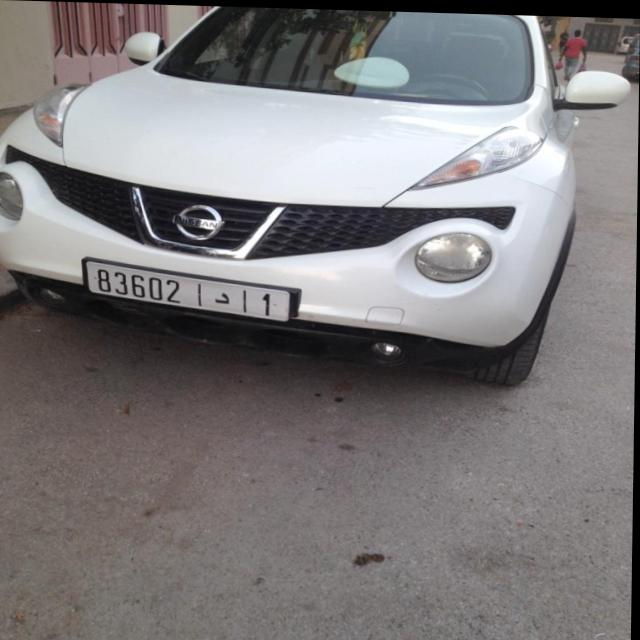License-Plate: (85, 260, 292, 319)
